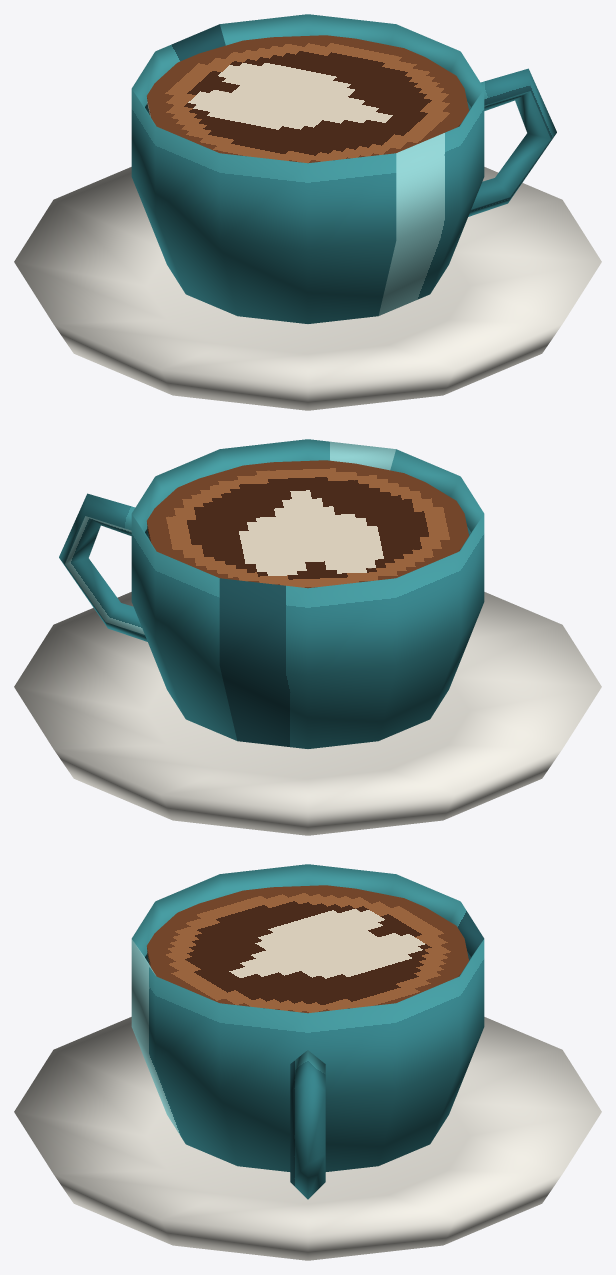
File: drinks-coffeeCup.glb
The picture shows the model from 3 angles, top to bottom: view 1: azimuth 30°, elevation 25°; view 2: azimuth 150°, elevation 25°; view 3: azimuth 270°, elevation 25°; orthographic projection.
Visible parts, largest first — view 1: drinks.coffeeCup; view 2: drinks.coffeeCup; view 3: drinks.coffeeCup.
Part boxes in pixels (<box>): drinks.coffeeCup: <box>14,14,601,410</box>; drinks.coffeeCup: <box>14,439,601,835</box>; drinks.coffeeCup: <box>14,864,601,1260</box>.
Bounding box in the file's own units: 1.94 × 0.7974 × 1.94.
Materials: 3 (2 with a texture image).
